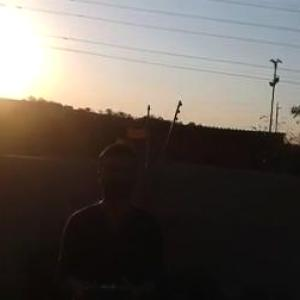follow: (50, 133, 170, 299)
